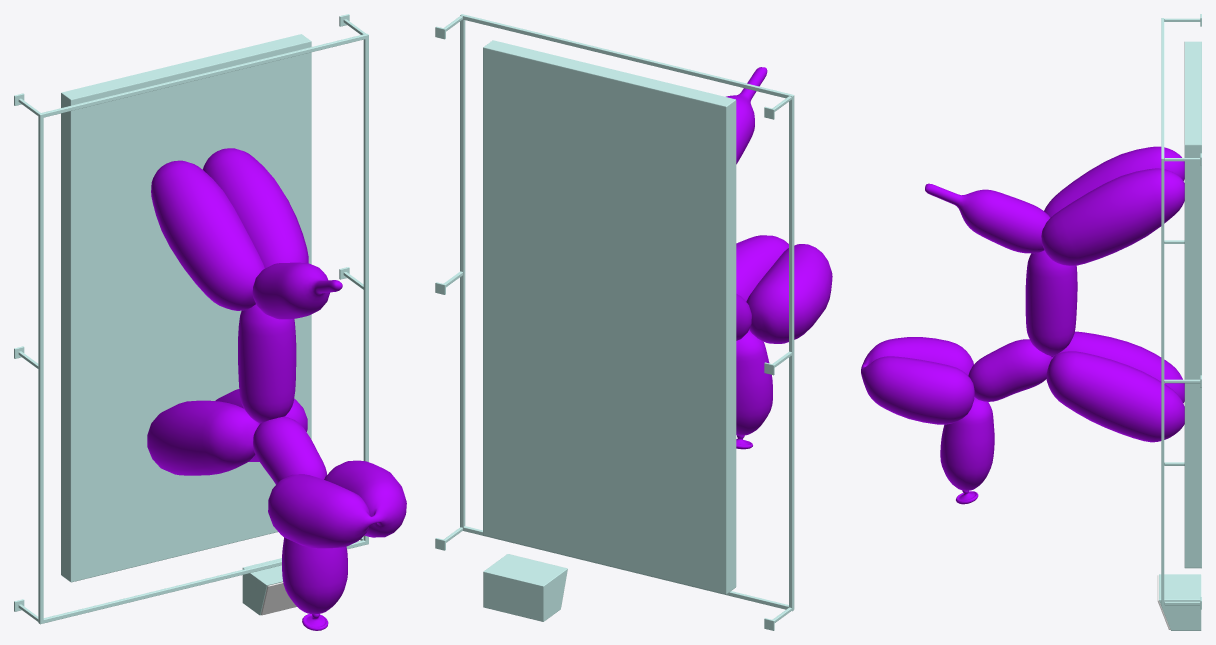
Rendered from MSH_BalloonDog.fbx.
The picture shows the model from 3 angles, left to right: view 1: azimuth 30°, elevation 25°; view 2: azimuth 150°, elevation 25°; view 3: azimuth 270°, elevation 25°; orthographic projection. The views are drawn at different scales.
Visible parts, largest first — view 1: Plane, Sphere.004, Cube.002, Cube.003; view 2: Plane, Sphere.004, Cube.002, Cube.003; view 3: Sphere.004, Plane, Cube.002, Cube.003.
Part boxes in pixels (bbox=[...]): Plane: bbox=[61, 34, 311, 582]; Sphere.004: bbox=[147, 148, 406, 630]; Cube.002: bbox=[14, 14, 368, 624]; Cube.003: bbox=[242, 558, 296, 615]; Plane: bbox=[483, 40, 736, 594]; Sphere.004: bbox=[726, 67, 832, 449]; Cube.002: bbox=[435, 14, 794, 630]; Cube.003: bbox=[483, 554, 567, 621]; Sphere.004: bbox=[861, 146, 1184, 504]; Plane: bbox=[1184, 41, 1201, 568]; Cube.002: bbox=[1161, 14, 1201, 609]; Cube.003: bbox=[1157, 574, 1201, 630].
Bounding box in the file's own units: 3.25 × 5.21 × 3.26.
